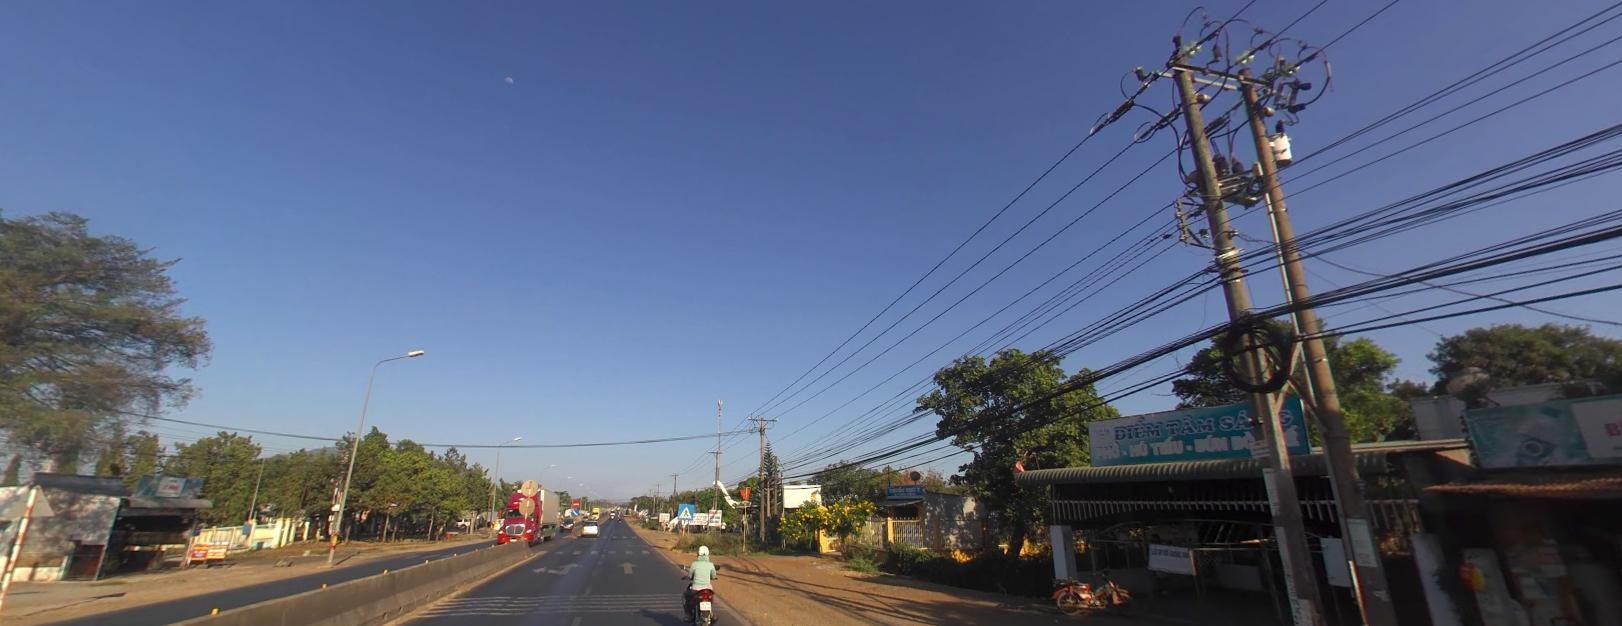Cam nguoc chieu: (571, 499, 579, 507)
Hieu lenh: (571, 507, 579, 515)
